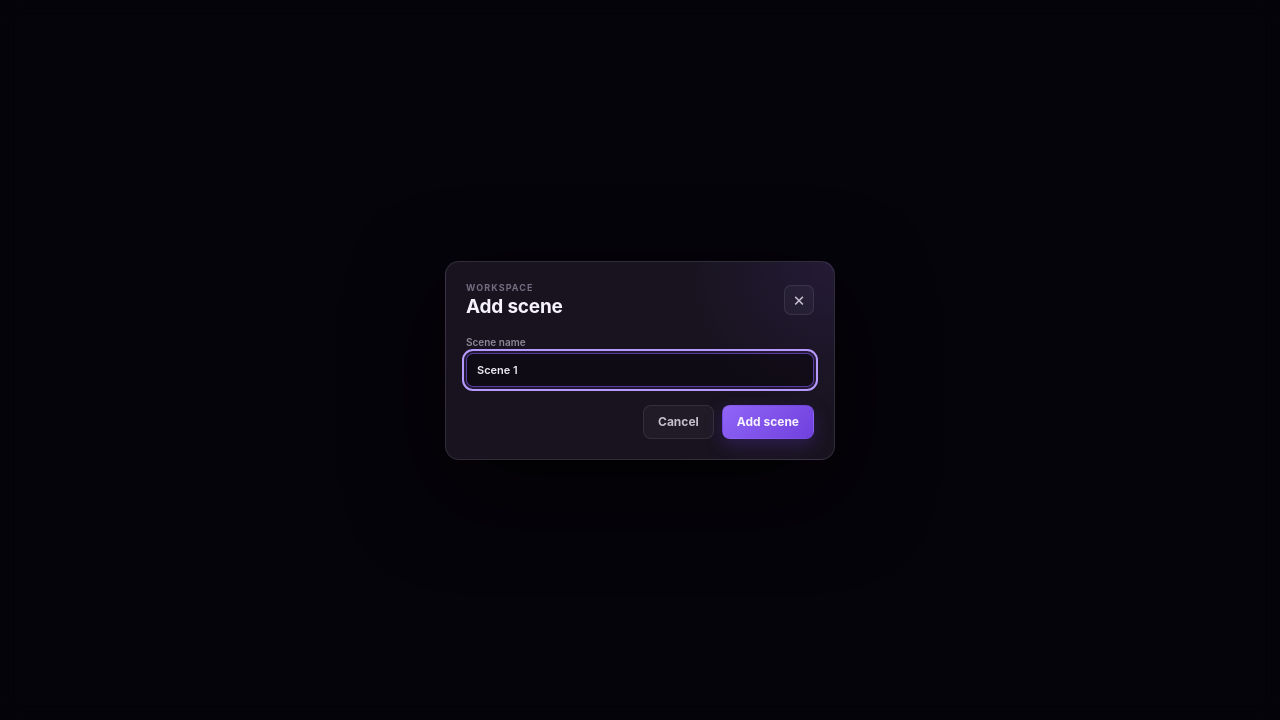
Test: SceneModal › keeps the scene dialog open and displays an OBS failure
Click the button "Add scene" at (768, 422), box top-left (722, 404), bottom-right (814, 438)
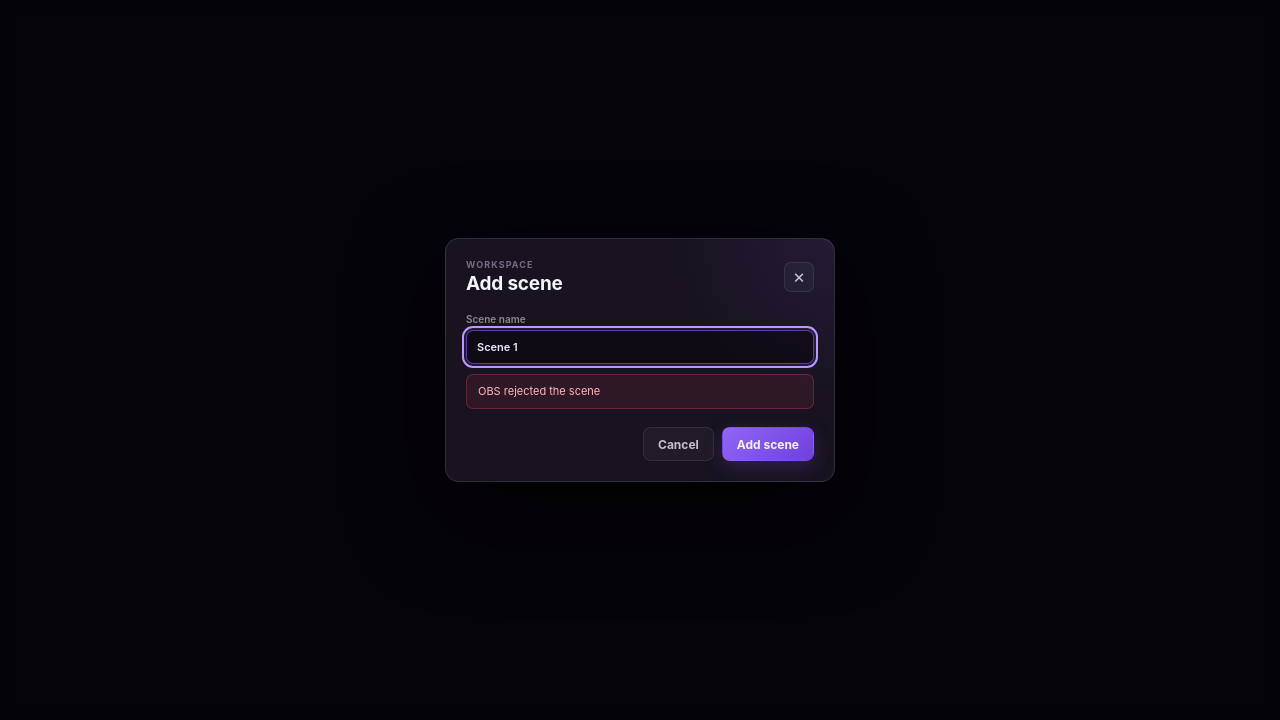
expect the message reads "OBS rejected the scene": met, box top-left (478, 384), bottom-right (600, 398)
